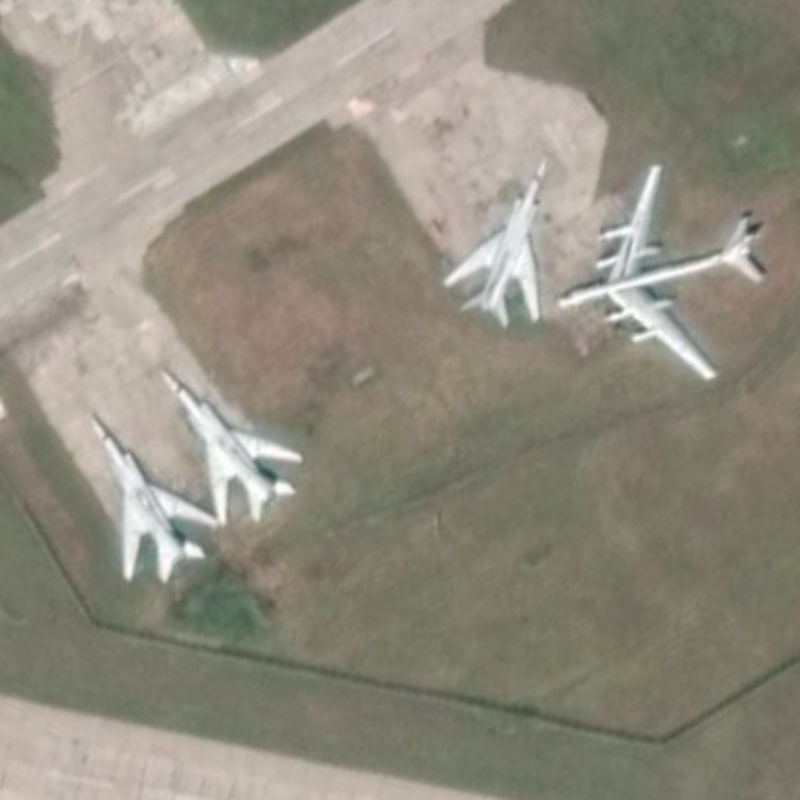A12: (157, 365, 306, 527), (87, 414, 221, 585), (439, 155, 549, 329)
A17: (551, 161, 768, 383)
